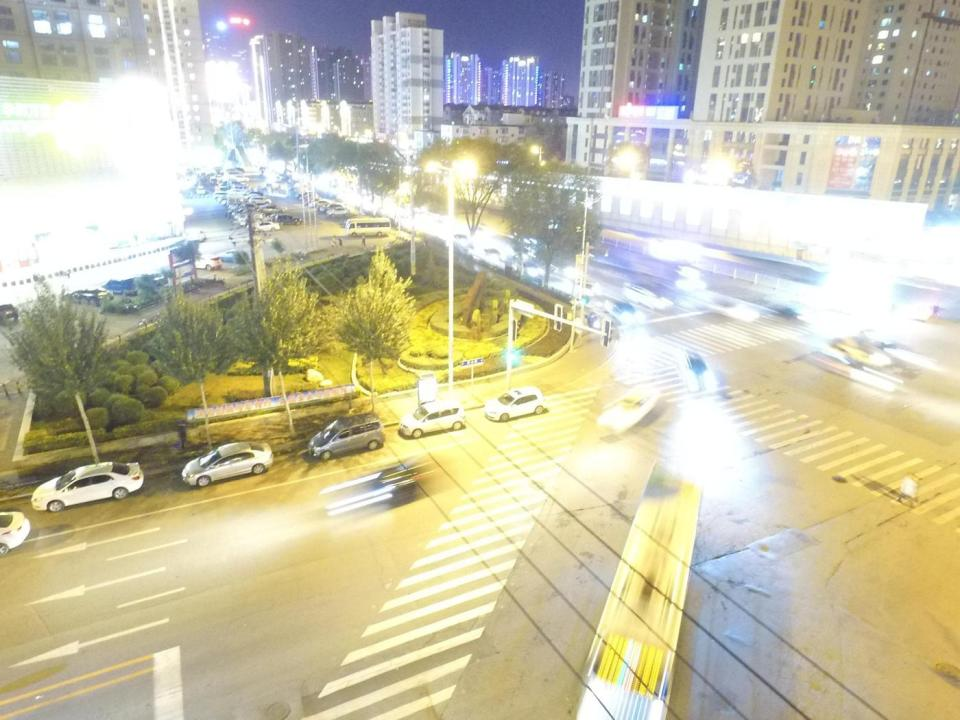bus: (575, 464, 702, 720), (345, 218, 391, 237)
car: (808, 336, 917, 390), (30, 462, 144, 512), (180, 440, 273, 487), (599, 382, 661, 434), (400, 400, 464, 438), (484, 387, 545, 421), (679, 351, 716, 392), (707, 295, 759, 322), (0, 511, 30, 555), (625, 281, 672, 309), (604, 300, 646, 325), (184, 253, 222, 272), (516, 260, 544, 279), (135, 274, 168, 290), (217, 249, 249, 264), (452, 233, 472, 250), (272, 215, 302, 226), (0, 304, 18, 322), (250, 222, 279, 230), (260, 205, 282, 215), (319, 204, 342, 213), (249, 196, 271, 205), (327, 207, 347, 216), (311, 200, 333, 208), (485, 248, 499, 260), (232, 186, 248, 194), (214, 191, 229, 198), (233, 176, 249, 182), (196, 185, 205, 194)
van: (308, 412, 386, 459), (61, 287, 113, 306), (103, 278, 134, 294), (226, 196, 249, 206)
